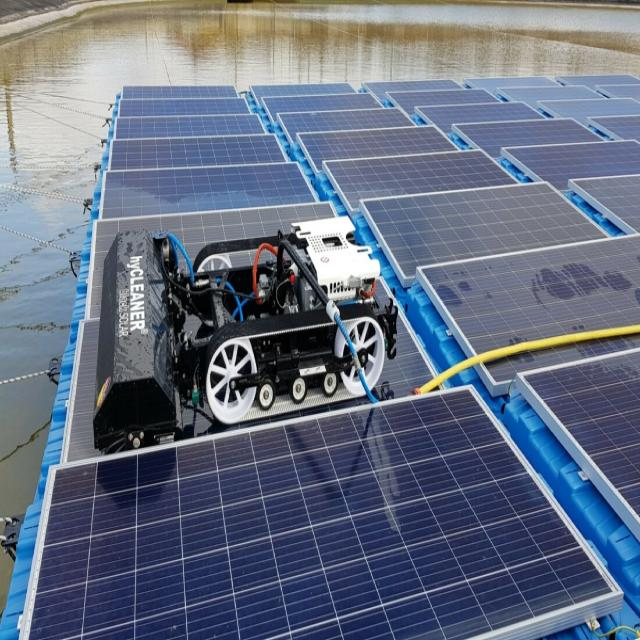clean-solar-panel: (20, 387, 622, 639)
dust-solar-panel: (64, 202, 440, 468), (416, 236, 640, 358), (485, 348, 596, 394)
